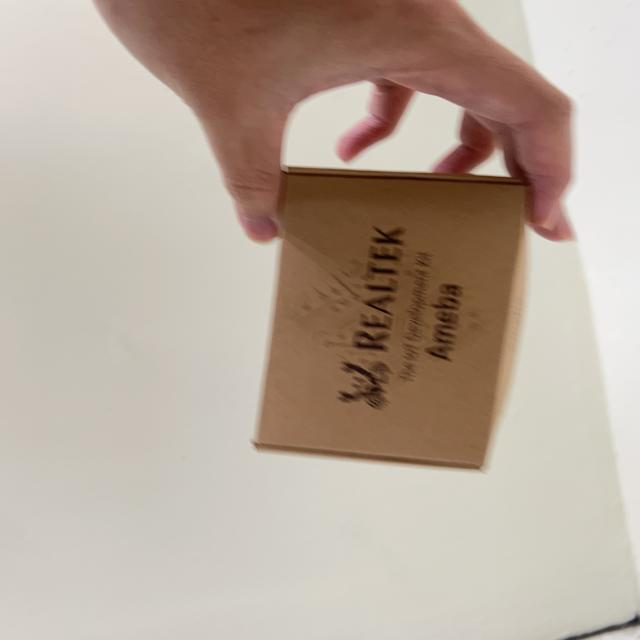box: (237, 160, 558, 476)
